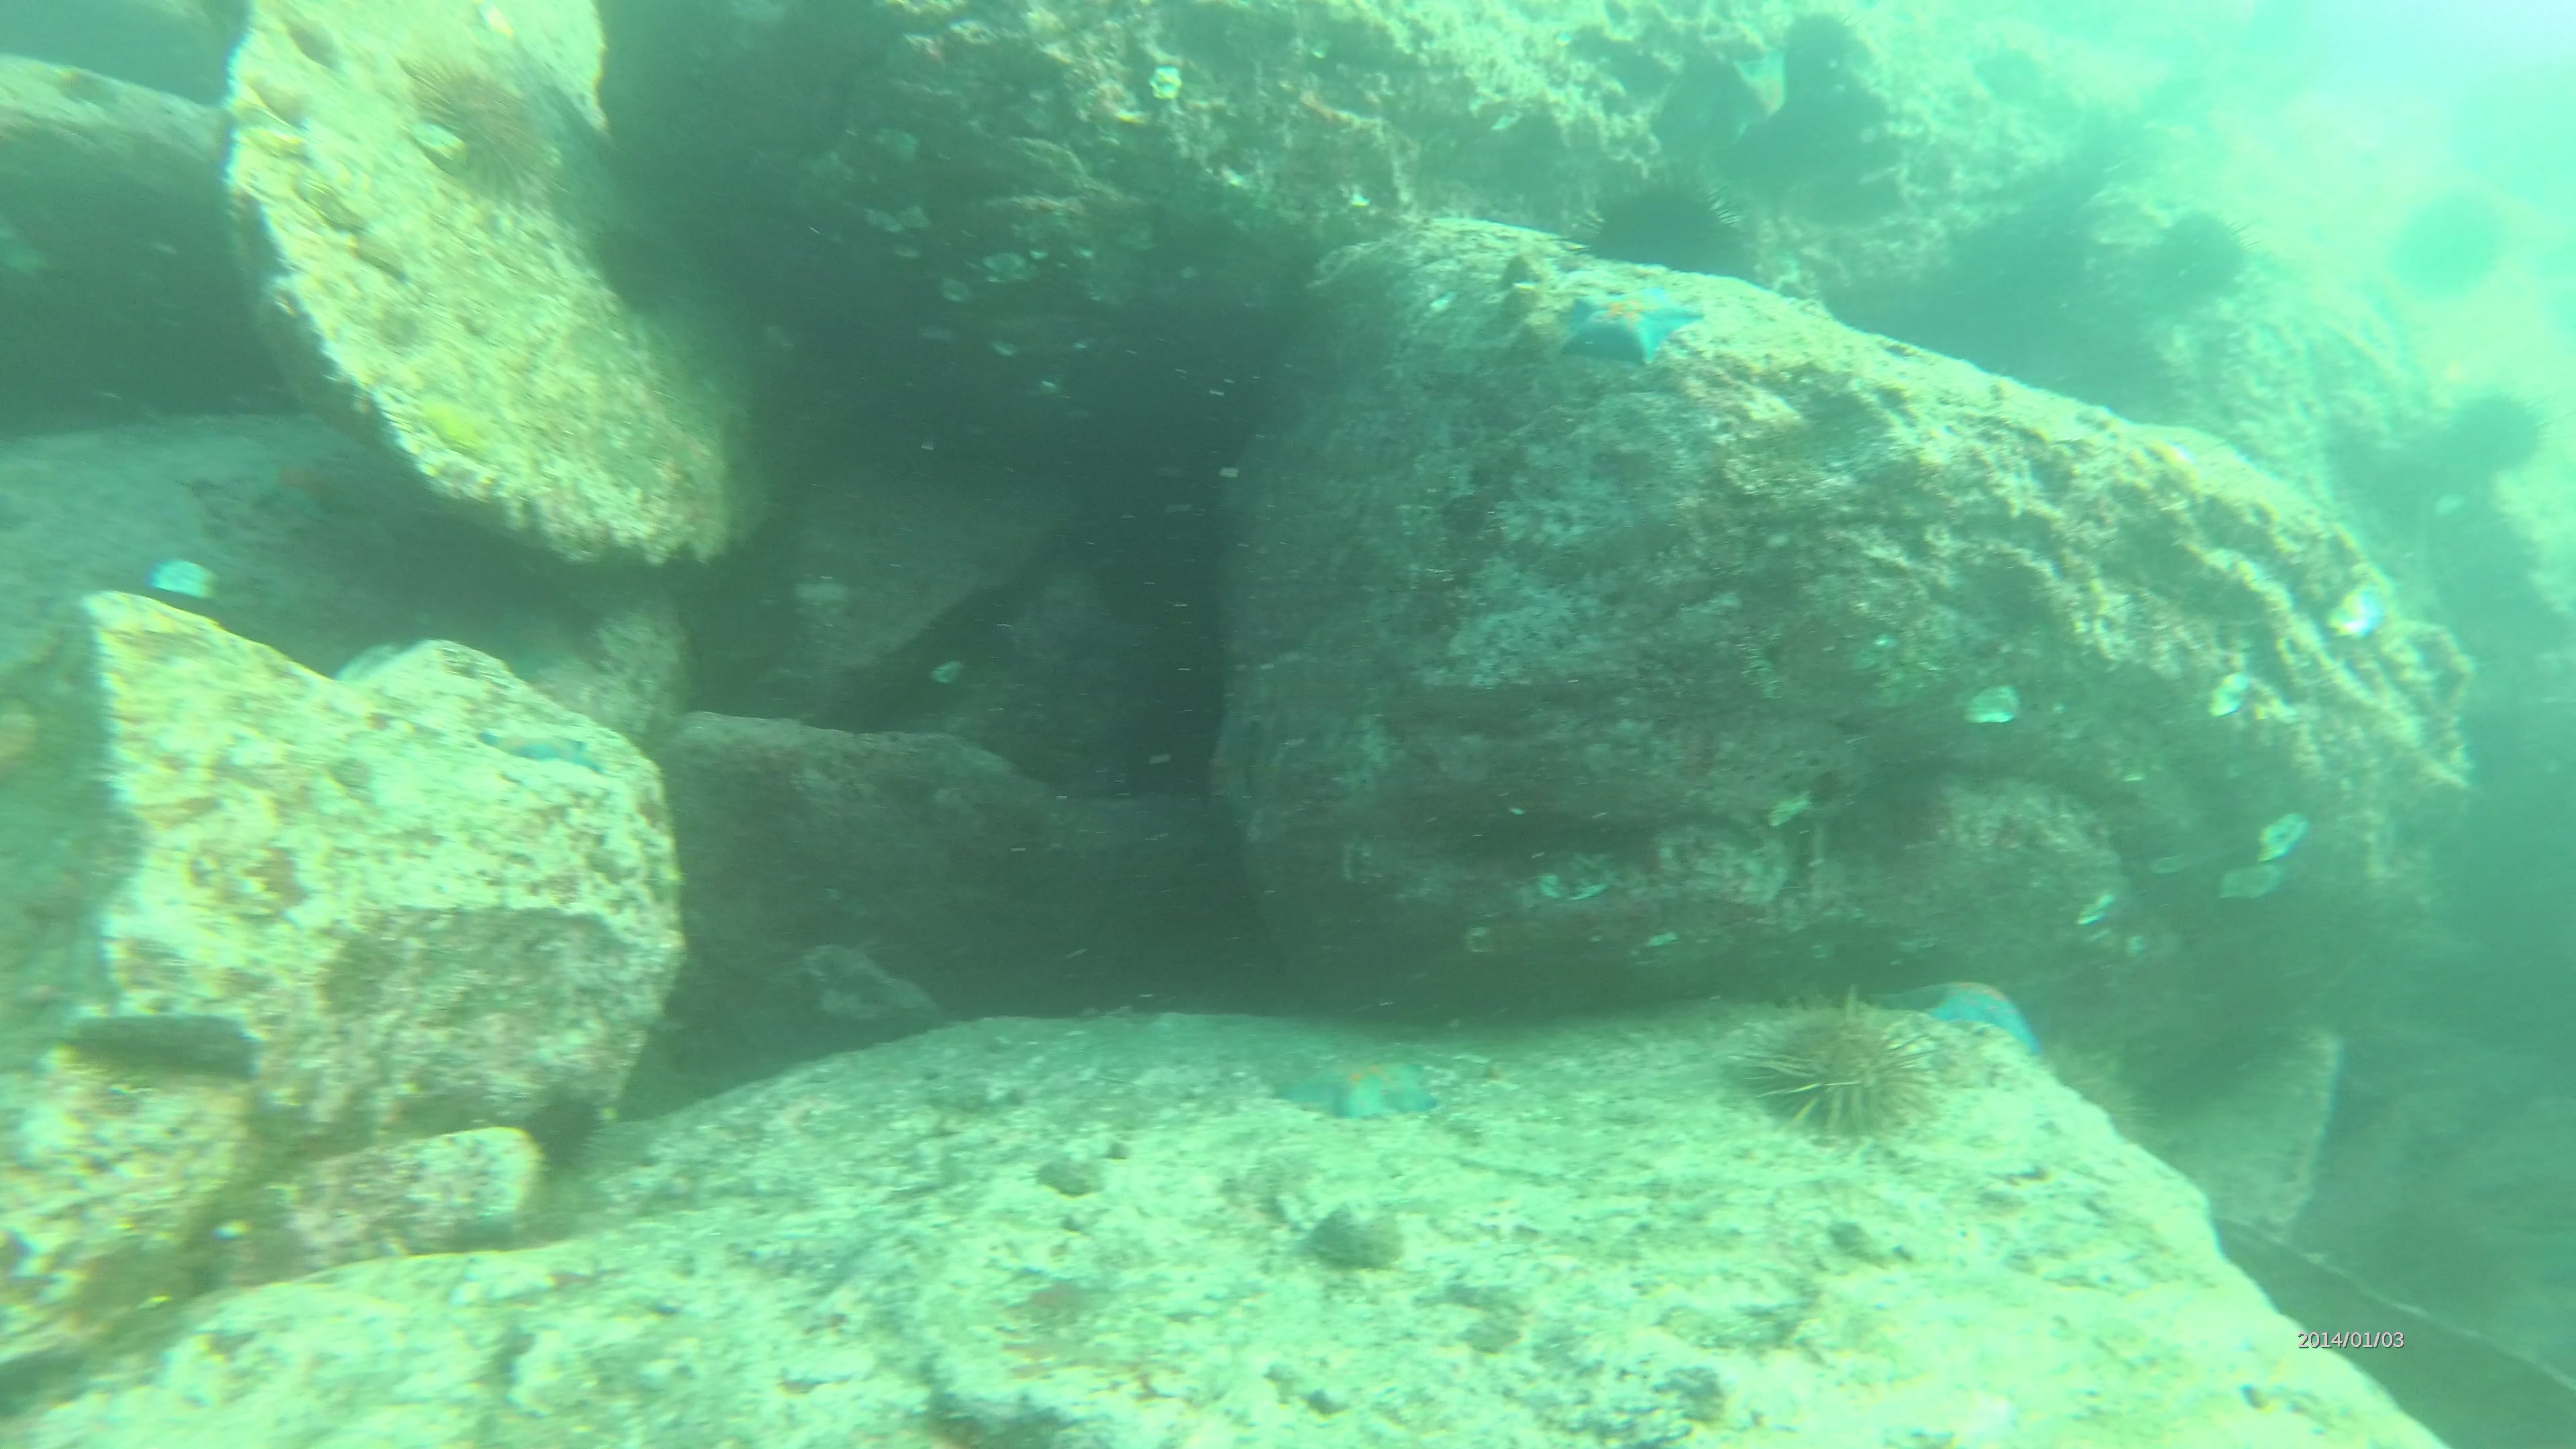echinus: (1752, 1001, 1957, 1141), (410, 62, 548, 202), (2148, 219, 2254, 306), (596, 219, 679, 320), (2461, 393, 2541, 469)
starfish: (1269, 1051, 1444, 1125), (1564, 281, 1697, 377), (1900, 973, 2045, 1054), (1711, 46, 1798, 147), (479, 715, 600, 773)
